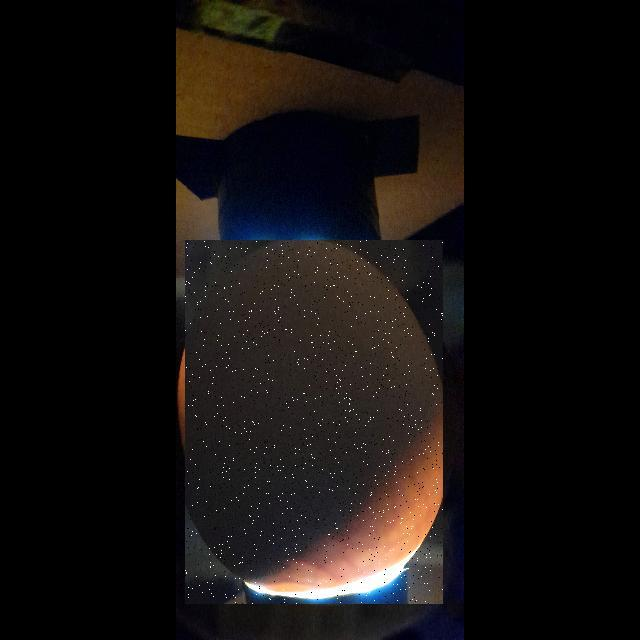Fertile: (185, 240, 443, 604)
